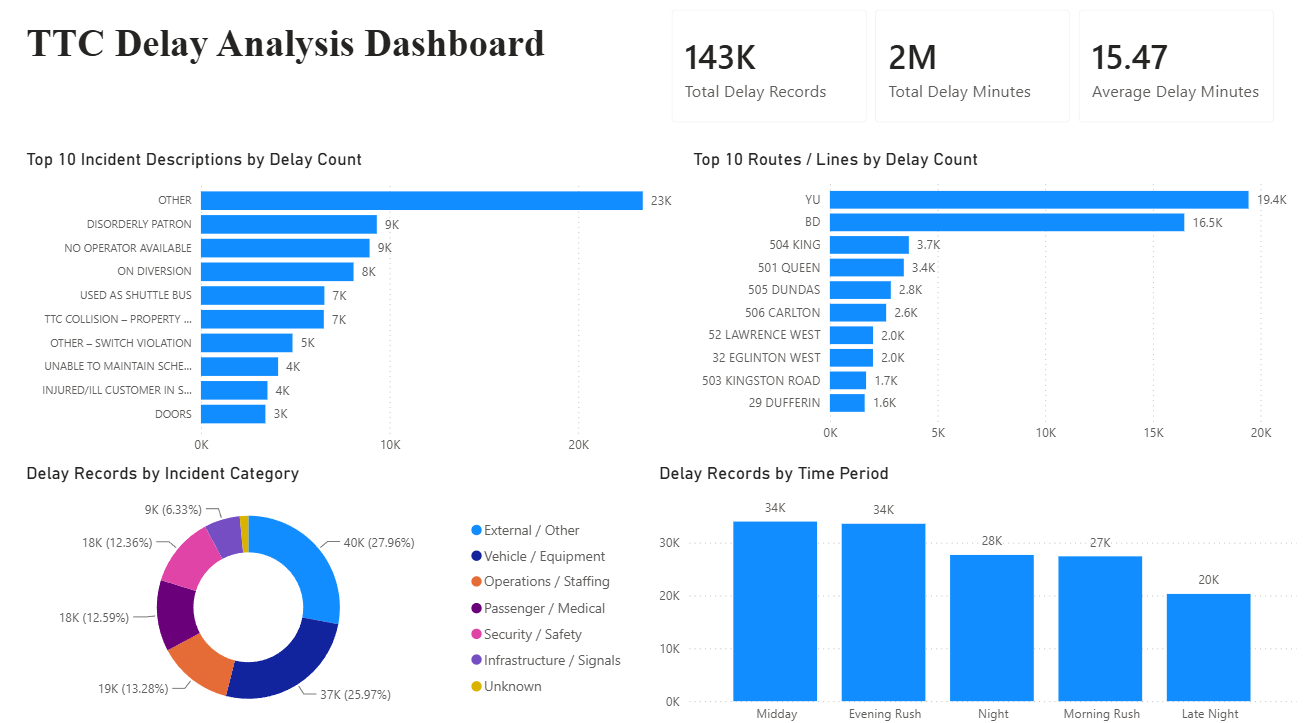

The dashboard page shown, as its layout file describes it:
{"tool":"powerbi","page":{"name":"Dashboard","canvas":[1280,720],"ordinal":0},"visuals":[{"type":"clusteredBarChart","title":"Top 10 Incident Descriptions by Delay Count","fields":{"Category":["ttc_delay_cleaned.incident_description"],"Y":["ttc_delay_cleaned.Total Delay Records"]},"box":[24.3,152.7,648.8,305.4],"z":0},{"type":"donutChart","title":"Delay Records by Incident Category","fields":{"Y":["ttc_delay_cleaned.Total Delay Records"],"Category":["ttc_delay_cleaned.incident_category"]},"box":[24.3,458.1,597.2,261.6],"z":1000},{"type":"clusteredBarChart","title":"Top 10 Routes / Lines by Delay Count","fields":{"Category":["ttc_delay_cleaned.route_line"],"Y":["ttc_delay_cleaned.Total Delay Records"]},"box":[673.1,152.7,597.2,293.7],"z":2000},{"type":"cardVisual","fields":{"Data":["ttc_delay_cleaned.Total Delay Records","ttc_delay_cleaned.Total Delay Minutes","ttc_delay_cleaned.Average Delay Minutes"]},"box":[640,0,621.5,144.9],"z":3000},{"type":"clusteredColumnChart","title":"Delay Records by Time Period","fields":{"Category":["ttc_delay_cleaned.time_period"],"Y":["ttc_delay_cleaned.Total Delay Records"]},"box":[640,458.1,630.3,261.6],"z":4000},{"type":"textbox","box":[24.3,23.3,615.7,98.2],"z":5000}]}

Visuals, with their boxes in screenshot pixels (x1, y1, x2, y2), scaled from the page's 1280x720 canvas onto the 1306x723 screenshot:
"Top 10 Incident Descriptions by Delay Count" clusteredBarChart: (left=25, top=153, right=687, bottom=460)
"Delay Records by Incident Category" donutChart: (left=25, top=460, right=634, bottom=722)
"Top 10 Routes / Lines by Delay Count" clusteredBarChart: (left=687, top=153, right=1296, bottom=448)
cardVisual - ttc_delay_cleaned.Total Delay Records x ttc_delay_cleaned.Total Delay Minutes: (left=653, top=0, right=1287, bottom=146)
"Delay Records by Time Period" clusteredColumnChart: (left=653, top=460, right=1296, bottom=722)
textbox: (left=25, top=23, right=653, bottom=122)
